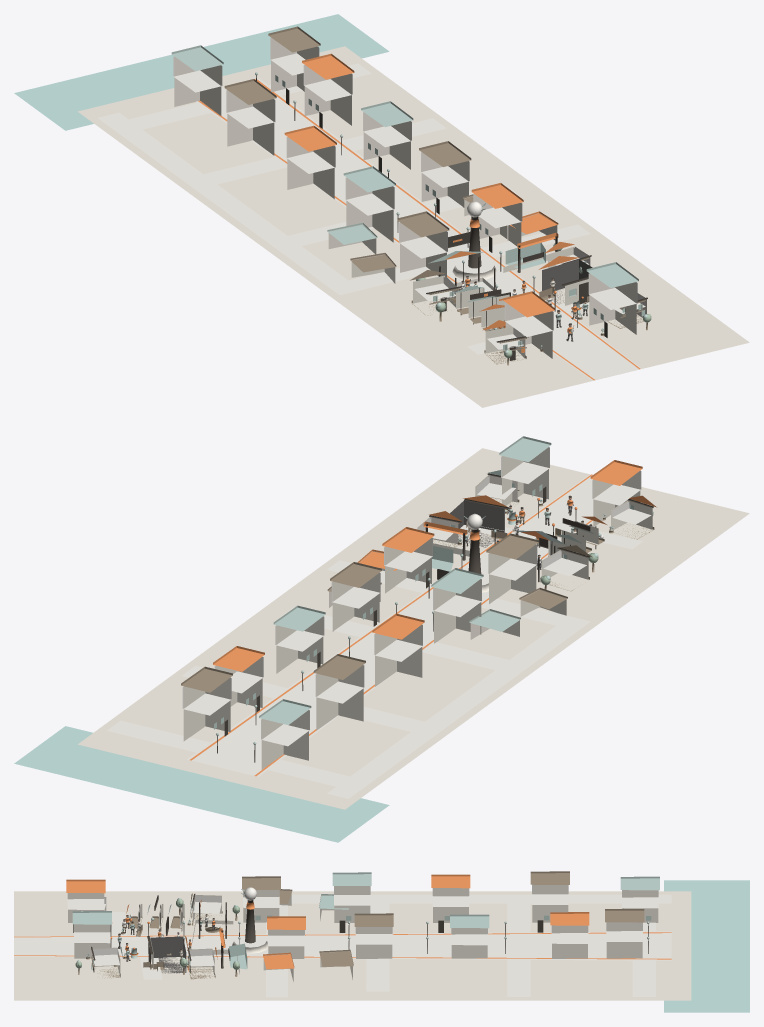
File: beacon-commons-review-v2.glb
3 views of the same model, one above another, from view 1: azimuth 30°, elevation 25°; view 2: azimuth 150°, elevation 25°; view 3: azimuth 270°, elevation 25° (orthographic). The views are drawn at different scales.
Visible parts, largest first — view 1: BeaconCommons_Mesh; view 2: BeaconCommons_Mesh; view 3: BeaconCommons_Mesh.
Boxes of the visible parts, box(x1,y1,x2,y2) form: BeaconCommons_Mesh: box(14, 14, 749, 407); BeaconCommons_Mesh: box(14, 436, 749, 842); BeaconCommons_Mesh: box(14, 871, 749, 1012).
Size of the model in its own units: 40 by 8.25 by 94.
